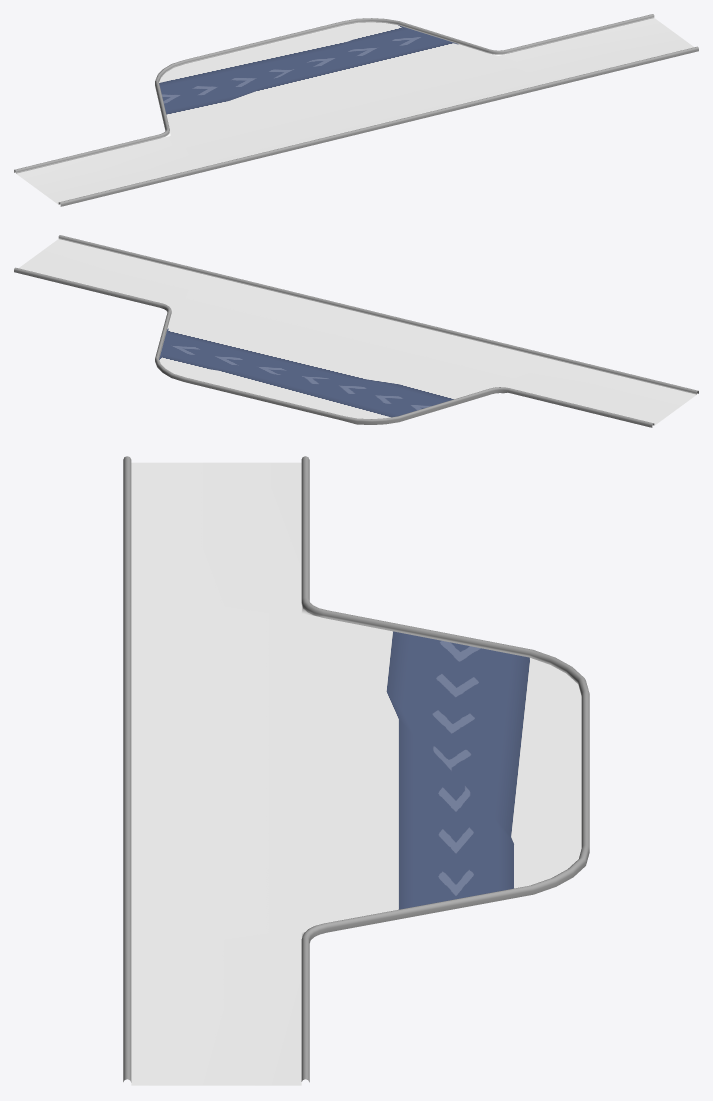
The model's file is Road2.fbx.
The picture shows the model from 3 angles, top to bottom: view 1: azimuth 30°, elevation 25°; view 2: azimuth 150°, elevation 25°; view 3: azimuth 270°, elevation 25°; orthographic projection. The views are drawn at different scales.
Visible parts, largest first — view 1: Road1; view 2: Road1; view 3: Road1.
Boxes of the visible parts, x1,y1,x2,y2 form: Road1: (14,14,698,206); Road1: (14,235,698,427); Road1: (123,456,589,1085).
Size of the model in its own units: 16061 by 122 by 5080.
2 materials, 1 textured.
